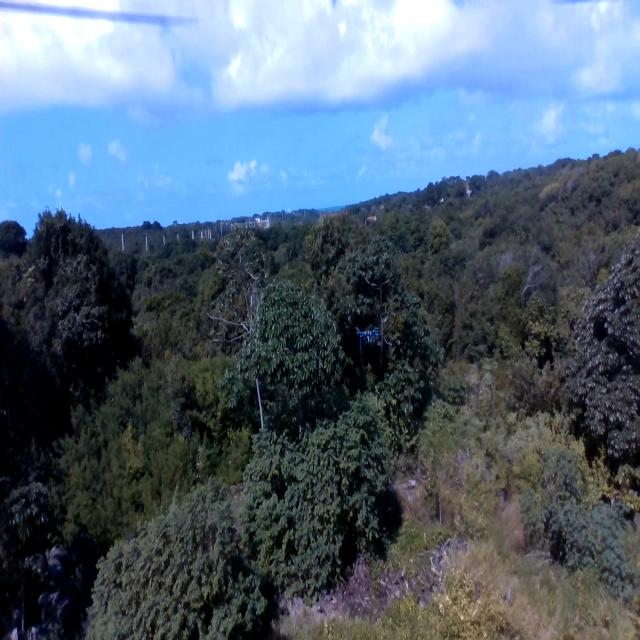-uav-: (355, 318, 382, 358)
